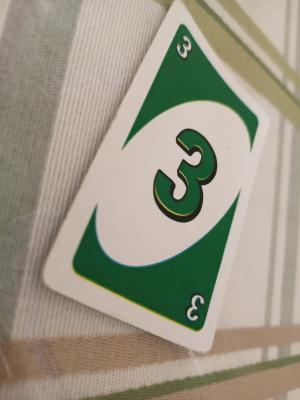green: (171, 24, 209, 119)
num_3: (151, 122, 225, 232), (176, 35, 202, 79), (183, 276, 204, 327)
